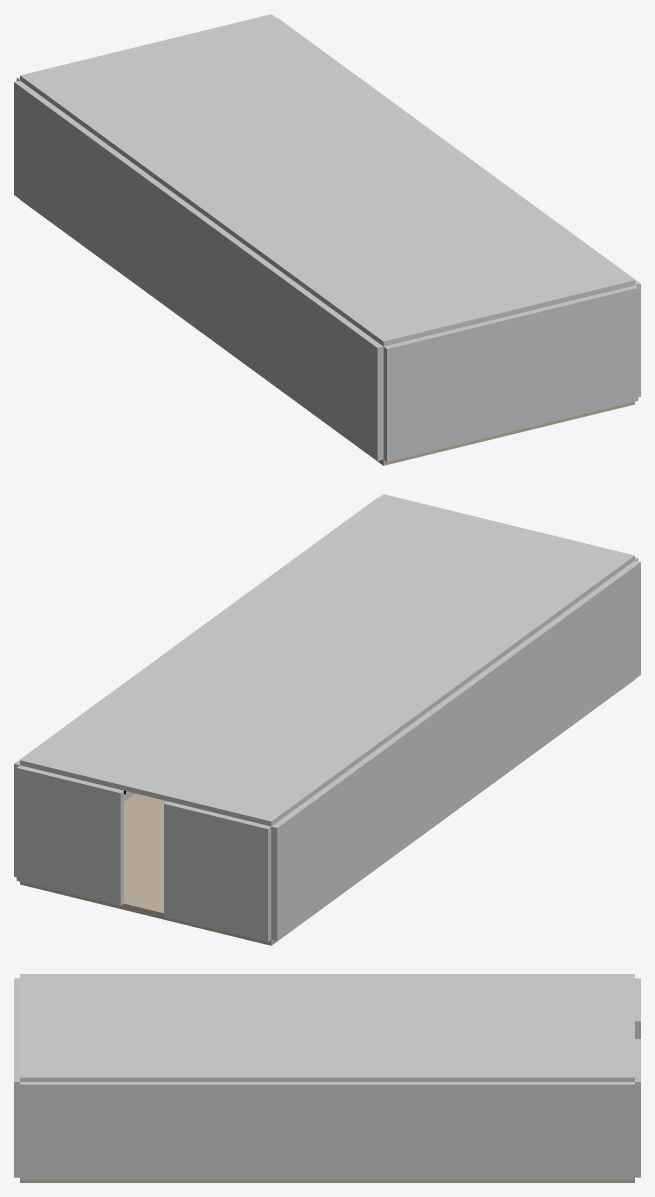
Rendered from building.glb.
3 views of the same model, one above another, from view 1: azimuth 30°, elevation 25°; view 2: azimuth 150°, elevation 25°; view 3: azimuth 270°, elevation 25° (orthographic). The views are drawn at different scales.
Parts seen in each view (by area): view 1: geometry_0; view 2: geometry_0; view 3: geometry_0.
Part boxes in pixels (x1=…): geometry_0: x1=14, y1=14, x2=640, y2=465; geometry_0: x1=14, y1=494, x2=640, y2=945; geometry_0: x1=14, y1=974, x2=640, y2=1182.
Size of the model in its own units: 10.98 by 4.95 by 26.75.
